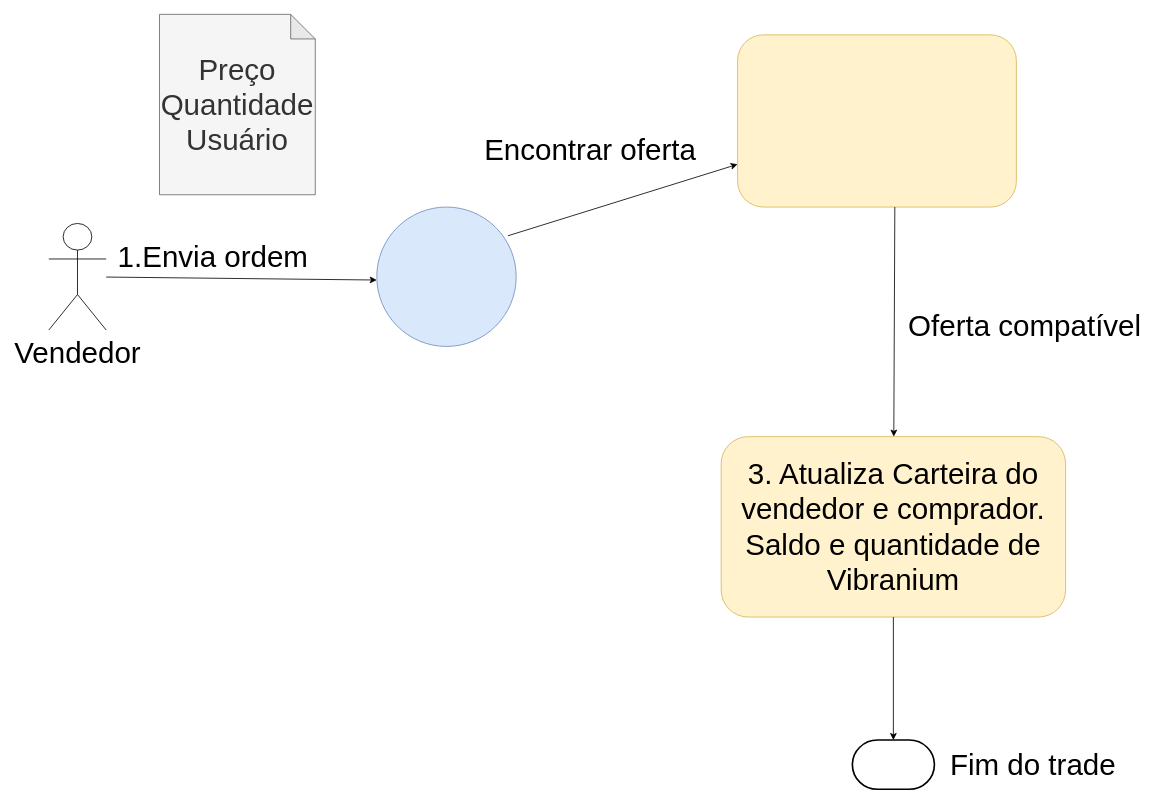
Image size: 1161x804. Some labels were removed from this diagram. The centre of each missing label's shape, as x and y in pixels:
2. Procura ordens com mesmo preço e quantidade: the point at 876,120
Order book engine: the point at 446,276
